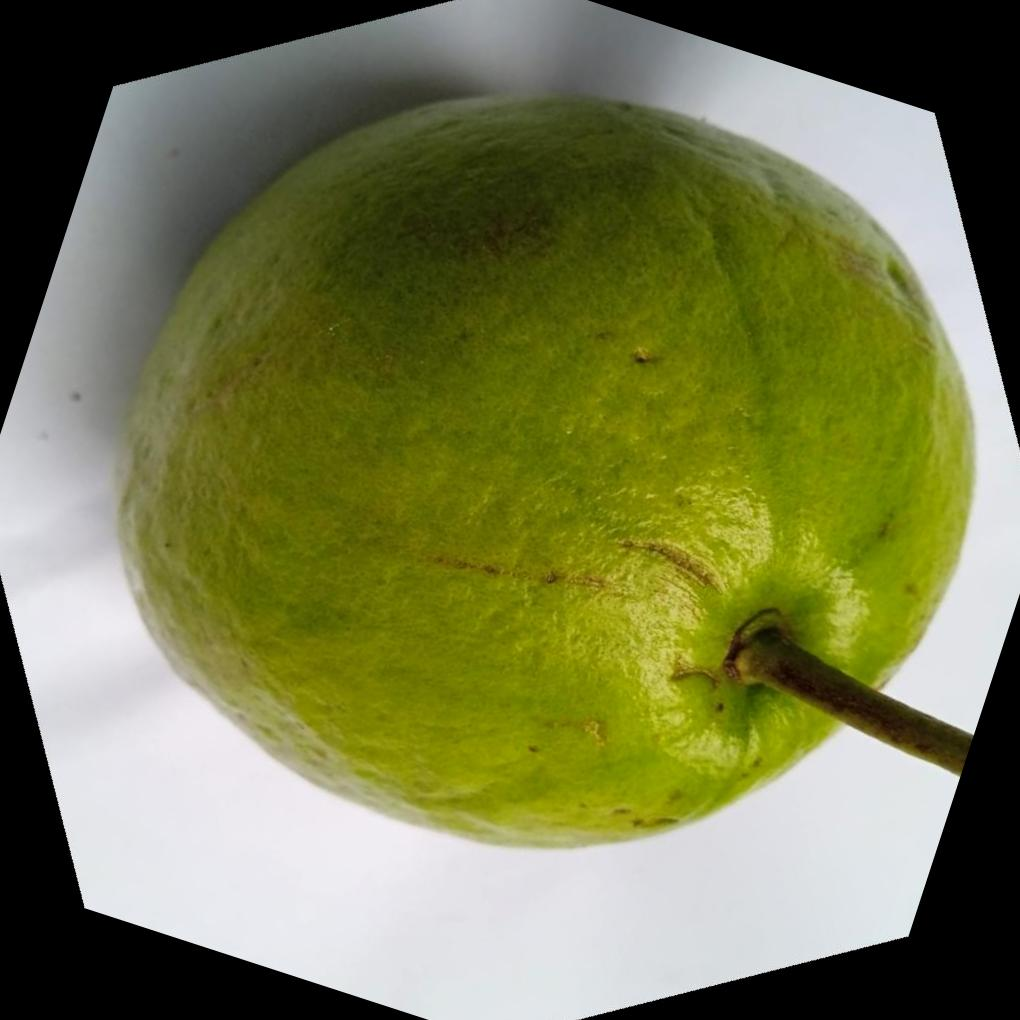FreshGuava: (114, 85, 979, 848)
